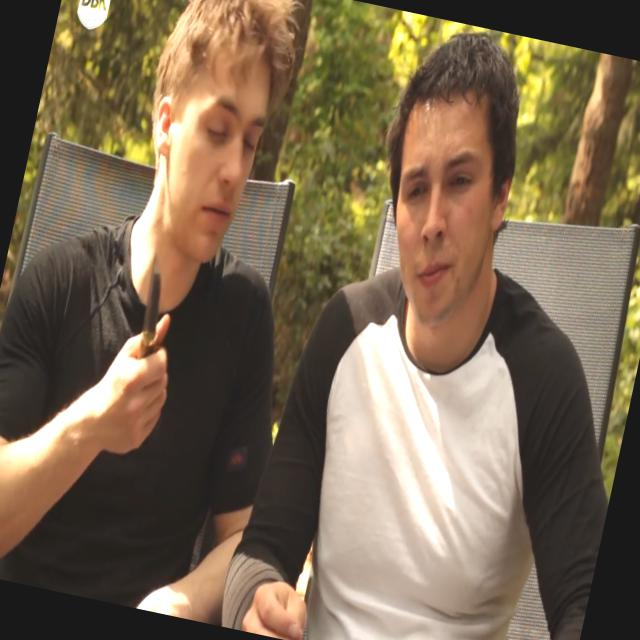knife: (114, 228, 200, 398)
